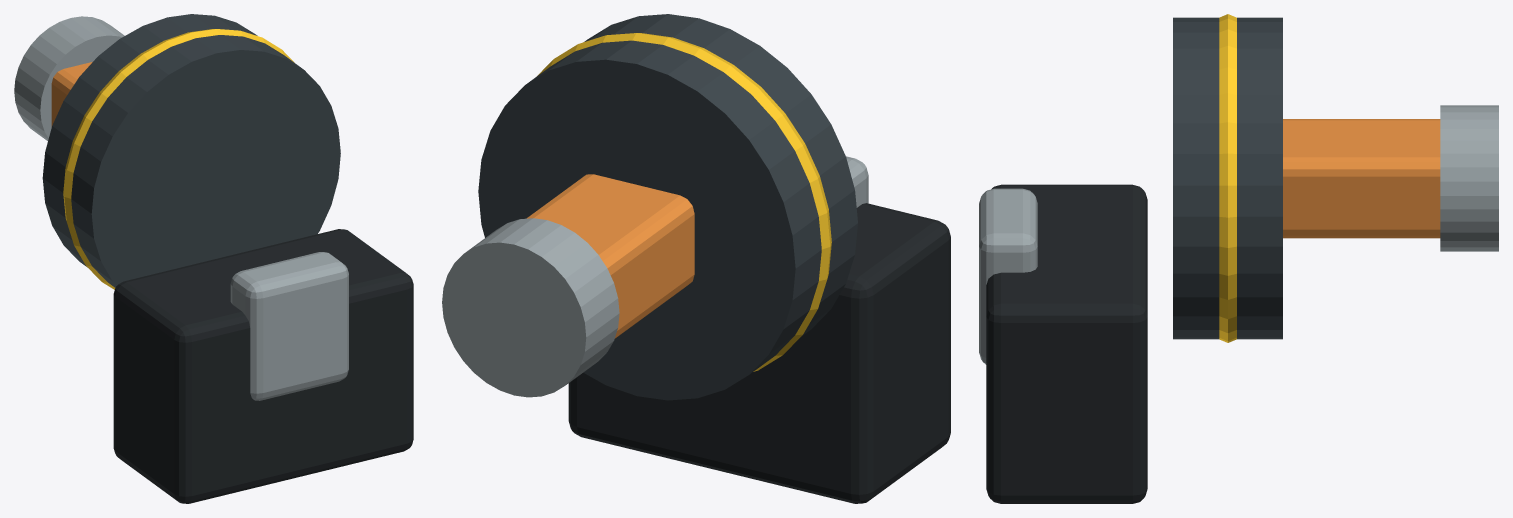
The model's file is zipline_variant_a.glb.
3 views of the same model, side by side, from view 1: azimuth 30°, elevation 25°; view 2: azimuth 150°, elevation 25°; view 3: azimuth 270°, elevation 25° (orthographic). The views are drawn at different scales.
Visible parts, largest first — view 1: Cable spool, Grip handle, Trigger guard, Attachment eye, Spool rim, Cable guide; view 2: Cable spool, Grip handle, Attachment eye, Cable guide, Spool rim, Trigger guard; view 3: Grip handle, Cable spool, Cable guide, Attachment eye, Spool rim, Trigger guard.
Boxes of the visible parts, box(x1,y1,x2,y2) form: Cable spool: box(42, 14, 340, 287); Grip handle: box(113, 229, 413, 503); Trigger guard: box(230, 252, 348, 400); Attachment eye: box(14, 16, 124, 140); Spool rim: box(63, 29, 294, 289); Cable guide: box(51, 62, 92, 126); Cable spool: box(478, 14, 857, 400); Grip handle: box(568, 203, 950, 503); Attachment eye: box(442, 218, 619, 397); Cable guide: box(526, 174, 694, 338); Spool rim: box(537, 33, 831, 371); Trigger guard: box(846, 156, 868, 207); Grip handle: box(986, 184, 1147, 503); Cable spool: box(1173, 17, 1282, 339); Cable guide: box(1283, 119, 1440, 238); Attachment eye: box(1440, 105, 1498, 251); Spool rim: box(1219, 14, 1236, 342); Trigger guard: box(979, 188, 1037, 364).
Size of what is drawn, in the model's own units: 0.45 by 0.625 by 0.71.
